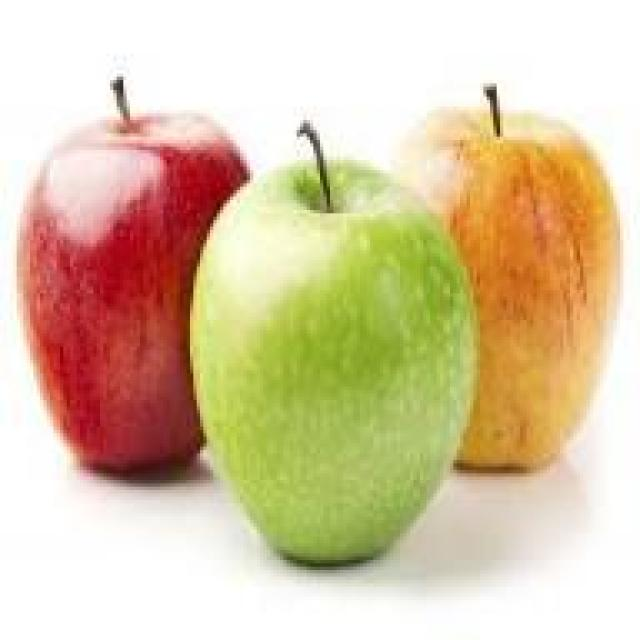apple: (177, 154, 473, 564), (400, 100, 623, 493), (20, 117, 257, 463)
